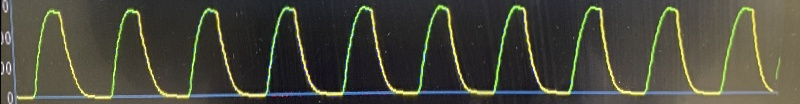normal_volume: (10, 0, 778, 104)
